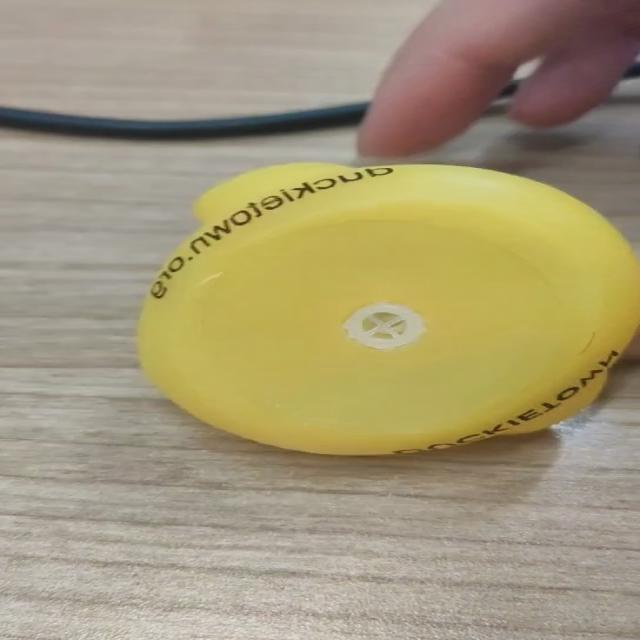rubber-duck: (137, 162, 638, 452)
